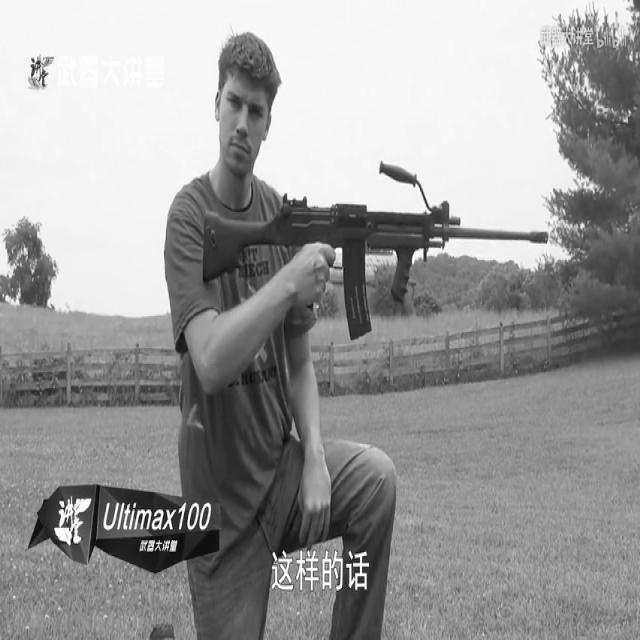Rifle: (200, 155, 556, 333)
